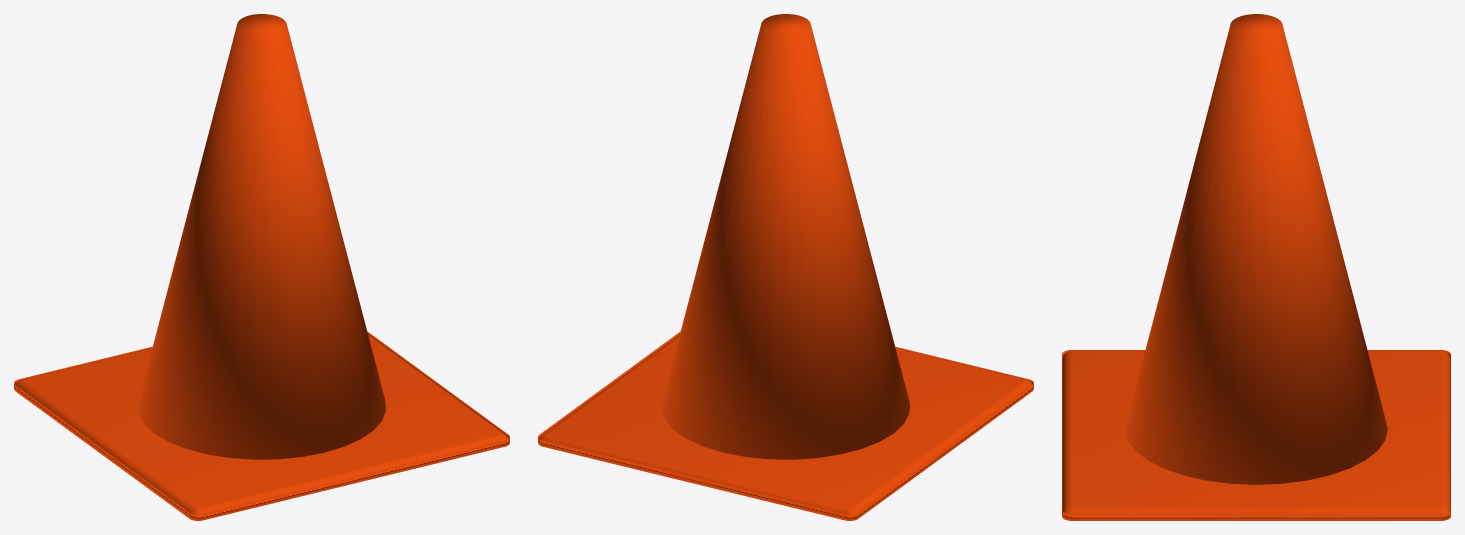
File: Cone_tall.fbx
3 renders of one model, left to right at view 1: azimuth 30°, elevation 25°; view 2: azimuth 150°, elevation 25°; view 3: azimuth 270°, elevation 25°, orthographic. The views are drawn at different scales.
Visible parts, largest first — view 1: Plane; view 2: Plane; view 3: Plane.
Part boxes in pixels (x1,y1,x2,y2): Plane: [14, 14, 509, 520]; Plane: [538, 14, 1033, 520]; Plane: [1062, 14, 1450, 520].
Bounding box in the file's own units: 296 × 350 × 296.
